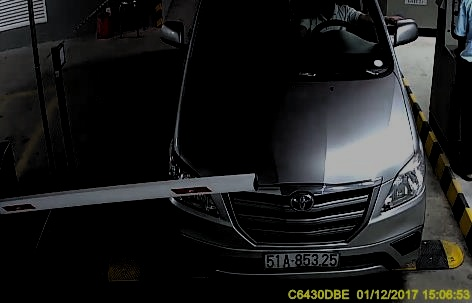plate: (264, 248, 340, 273)
